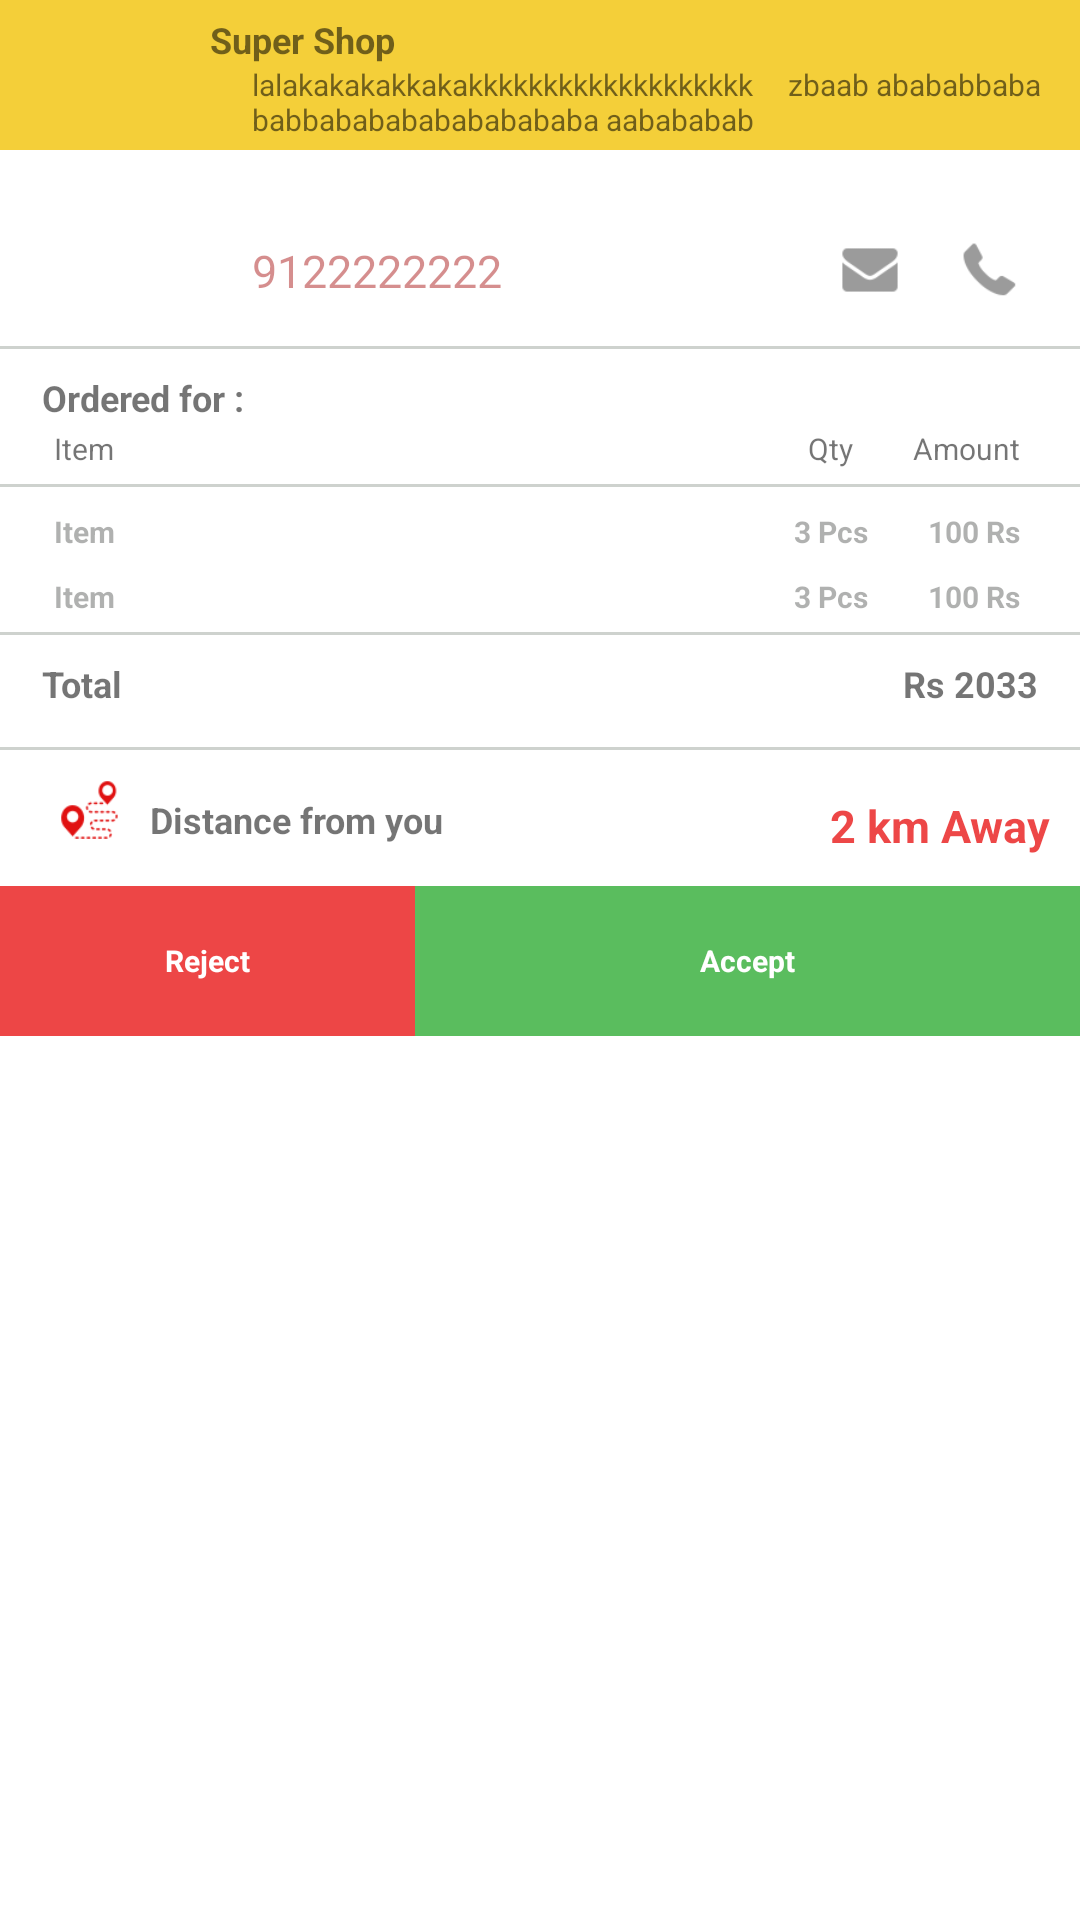

Point at icon controls on the screen. Image size 1080*1920, points as (x,y).
call: (989,269)
